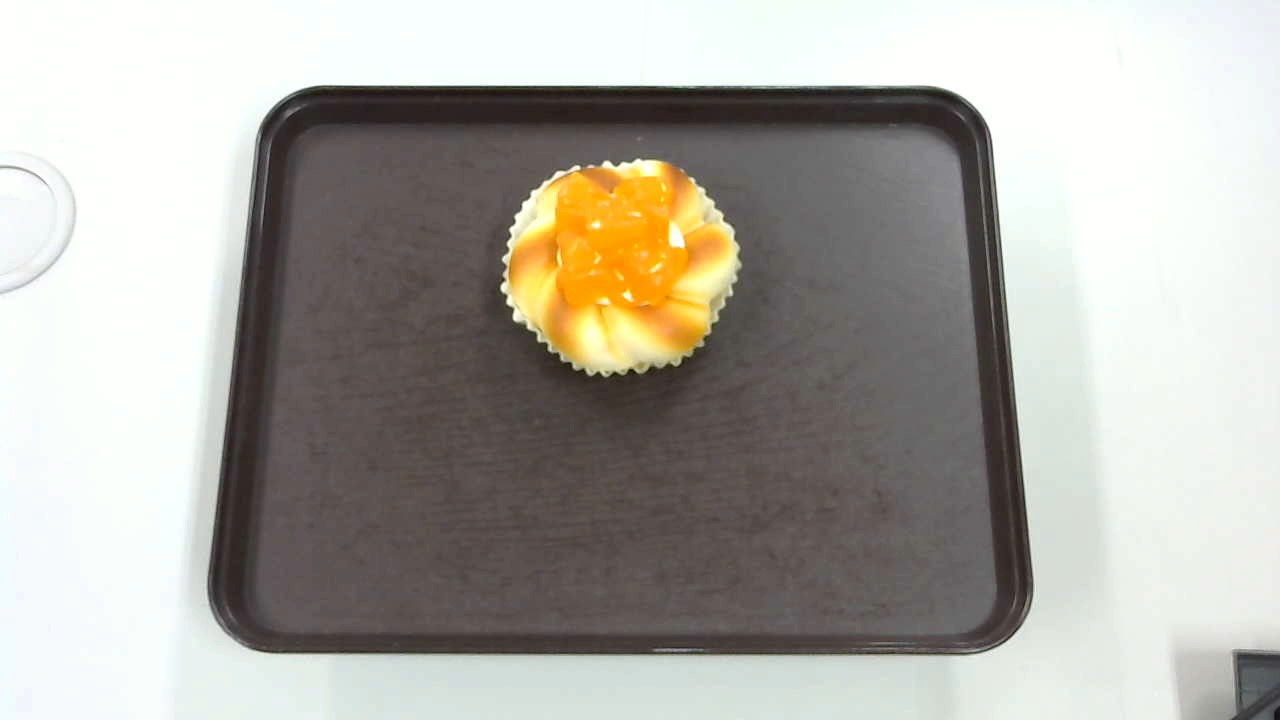mango tart: (501, 157, 742, 375)
